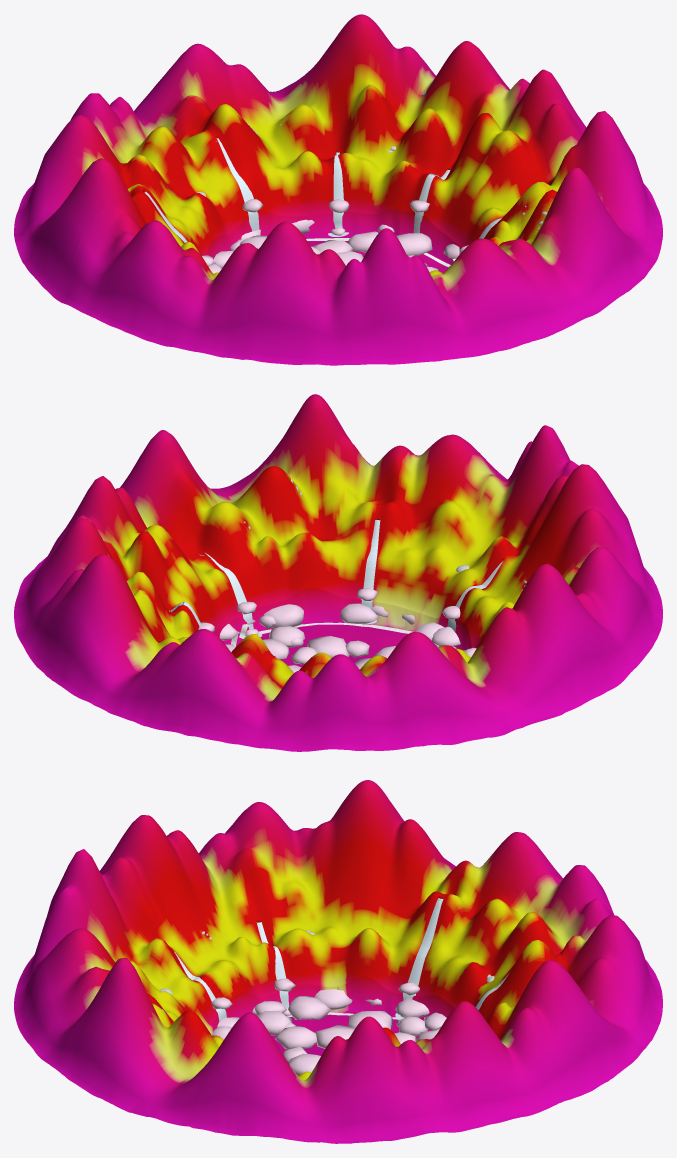
Rendered from zon_shell_far_raw.glb.
The picture shows the model from 3 angles, top to bottom: view 1: azimuth 30°, elevation 25°; view 2: azimuth 150°, elevation 25°; view 3: azimuth 270°, elevation 25°; orthographic projection.
Visible parts, largest first — view 1: SM_shell_far_far_terrain_soft_x0_zm1_s1_LOD0_raw, SM_shell_far_far_terrain_soft_xm1_z0_LOD0_raw, SM_shell_far_far_terrain_soft_x0_z0_LOD0_raw, SM_shell_far_far_terrain_soft_xm1_zm1_LOD0_raw, SM_shell_far_cloud_xm1_zm1_raw, SM_shell_far_far_falls_x0_zm1_raw; view 2: SM_shell_far_far_terrain_soft_x0_z0_LOD0_raw, SM_shell_far_far_terrain_soft_xm1_zm1_LOD0_raw, SM_shell_far_far_terrain_soft_xm1_z0_LOD0_raw, SM_shell_far_far_terrain_soft_x0_zm1_s1_LOD0_raw, SM_shell_far_cloud_xm1_zm1_raw, SM_shell_far_far_falls_x0_zm1_raw, SM_shell_far_far_water_x0_zm1_raw; view 3: SM_shell_far_far_terrain_soft_xm1_z0_LOD0_raw, SM_shell_far_far_terrain_soft_xm1_zm1_LOD0_raw, SM_shell_far_far_terrain_soft_x0_zm1_s1_LOD0_raw, SM_shell_far_far_terrain_soft_x0_z0_LOD0_raw, SM_shell_far_cloud_xm1_zm1_raw, SM_shell_far_far_falls_x0_zm1_raw.
Boxes of the visible parts, bbox=[...] form: SM_shell_far_far_terrain_soft_x0_zm1_s1_LOD0_raw: bbox=[198, 14, 586, 268]; SM_shell_far_far_terrain_soft_xm1_z0_LOD0_raw: bbox=[57, 198, 498, 365]; SM_shell_far_far_terrain_soft_x0_z0_LOD0_raw: bbox=[436, 103, 662, 351]; SM_shell_far_far_terrain_soft_xm1_zm1_LOD0_raw: bbox=[14, 43, 272, 299]; SM_shell_far_cloud_xm1_zm1_raw: bbox=[202, 199, 468, 273]; SM_shell_far_far_falls_x0_zm1_raw: bbox=[144, 138, 501, 242]; SM_shell_far_far_terrain_soft_x0_z0_LOD0_raw: bbox=[116, 394, 473, 665]; SM_shell_far_far_terrain_soft_xm1_zm1_LOD0_raw: bbox=[178, 563, 618, 751]; SM_shell_far_far_terrain_soft_xm1_z0_LOD0_raw: bbox=[353, 425, 662, 685]; SM_shell_far_far_terrain_soft_x0_zm1_s1_LOD0_raw: bbox=[14, 476, 302, 732]; SM_shell_far_cloud_xm1_zm1_raw: bbox=[198, 588, 476, 672]; SM_shell_far_far_falls_x0_zm1_raw: bbox=[169, 519, 503, 648]; SM_shell_far_far_water_x0_zm1_raw: bbox=[199, 554, 413, 646]; SM_shell_far_far_terrain_soft_xm1_z0_LOD0_raw: bbox=[14, 802, 340, 1055]; SM_shell_far_far_terrain_soft_xm1_zm1_LOD0_raw: bbox=[337, 780, 662, 1038]; SM_shell_far_far_terrain_soft_x0_zm1_s1_LOD0_raw: bbox=[338, 918, 662, 1143]; SM_shell_far_far_terrain_soft_x0_z0_LOD0_raw: bbox=[14, 928, 340, 1143]; SM_shell_far_cloud_xm1_zm1_raw: bbox=[211, 978, 446, 1075]; SM_shell_far_far_falls_x0_zm1_raw: bbox=[162, 898, 509, 1022].
Bounding box in the file's own units: 728 × 219 × 728.
